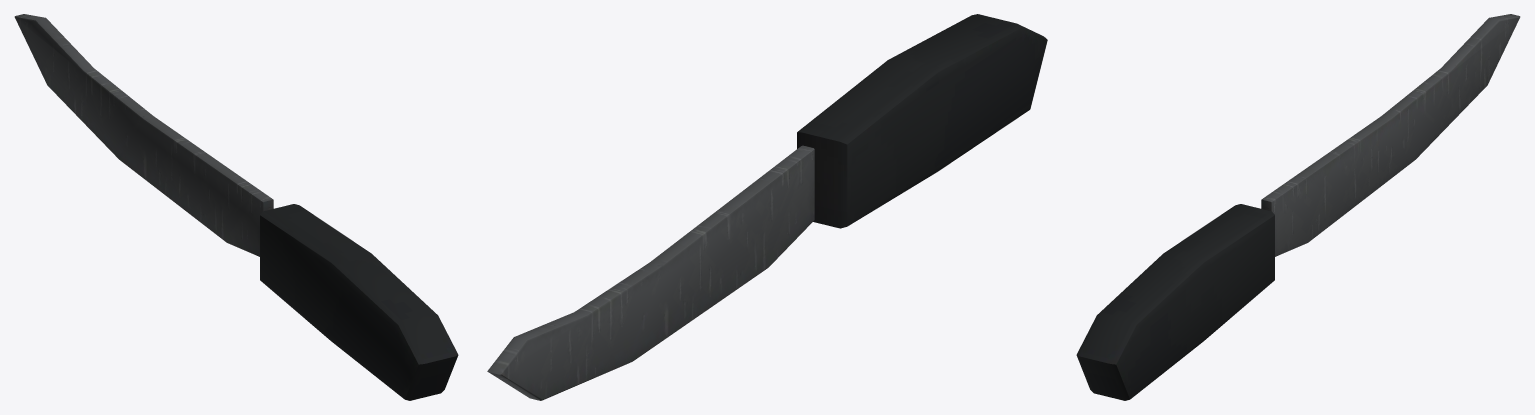
The model's file is knife_falchion.glb.
3 views of the same model, side by side, from view 1: azimuth 30°, elevation 25°; view 2: azimuth 150°, elevation 25°; view 3: azimuth 330°, elevation 25° (orthographic). The views are drawn at different scales.
Parts seen in each view (by area): view 1: body_furniture, body_receiver; view 2: body_furniture, body_receiver; view 3: body_furniture, body_receiver.
Boxes of the visible parts, x1,y1,x2,y2 form: body_furniture: (260, 204, 458, 400); body_receiver: (14, 14, 273, 256); body_furniture: (797, 14, 1047, 228); body_receiver: (487, 145, 814, 400); body_furniture: (1076, 204, 1274, 400); body_receiver: (1261, 14, 1520, 256).
Bounding box in the file's own units: 0.021 × 0.0448 × 0.3519.
Materials: 2 (2 with a texture image).
